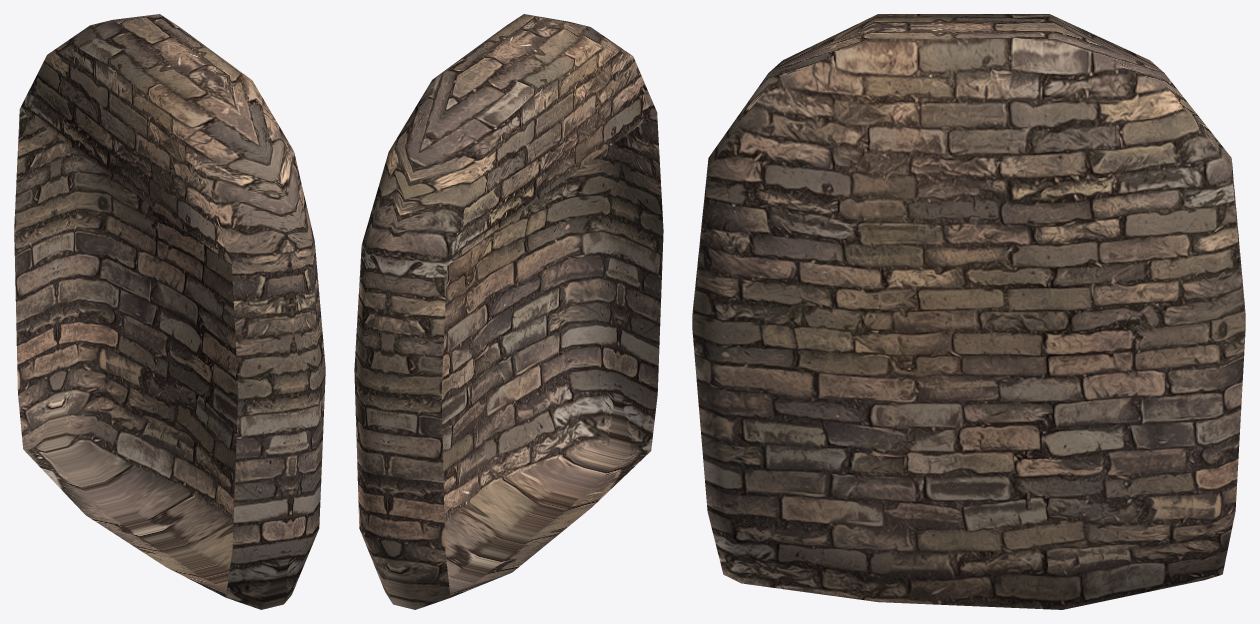
File: SecretPassageWall.fbx
3 renders of one model, left to right at view 1: azimuth 30°, elevation 25°; view 2: azimuth 150°, elevation 25°; view 3: azimuth 270°, elevation 25°, orthographic. The views are drawn at different scales.
Parts seen in each view (by area): view 1: pCube85; view 2: pCube85; view 3: pCube85.
Boxes of the visible parts, bbox=[...] form: pCube85: bbox=[14, 14, 325, 609]; pCube85: bbox=[354, 14, 663, 609]; pCube85: bbox=[692, 14, 1245, 609].
Size of the model in its own units: 61.37 by 258 by 226.
